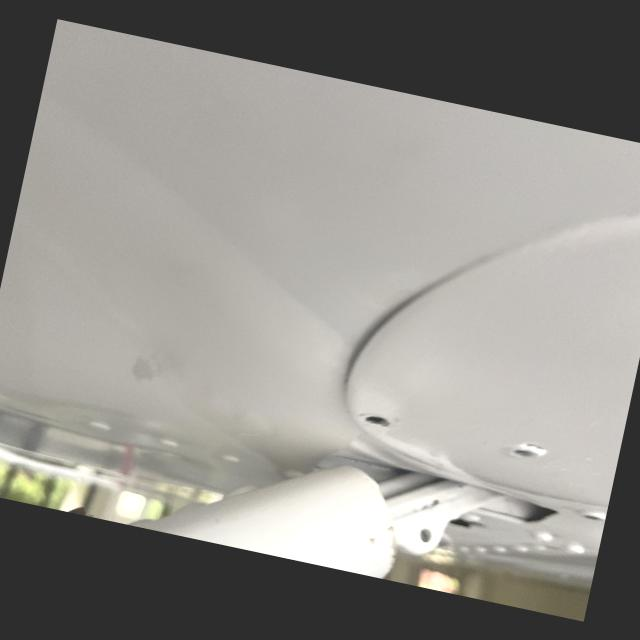Missing Fastener: (355, 406, 402, 435)
